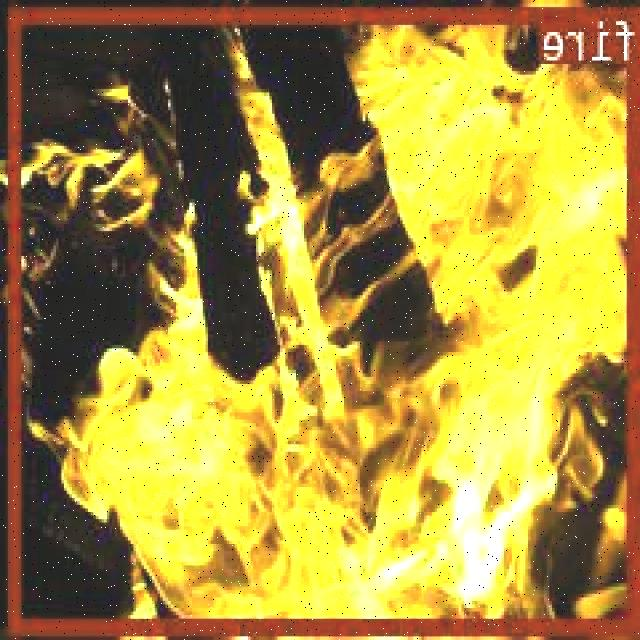fire: (13, 3, 640, 633)
